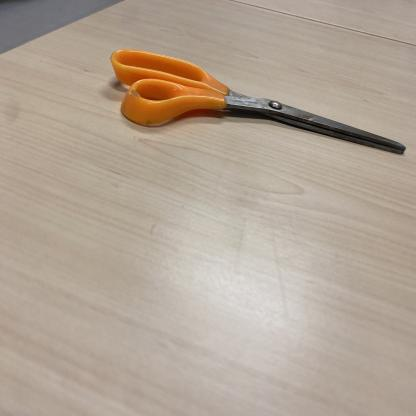scissors: (110, 49, 408, 155)
